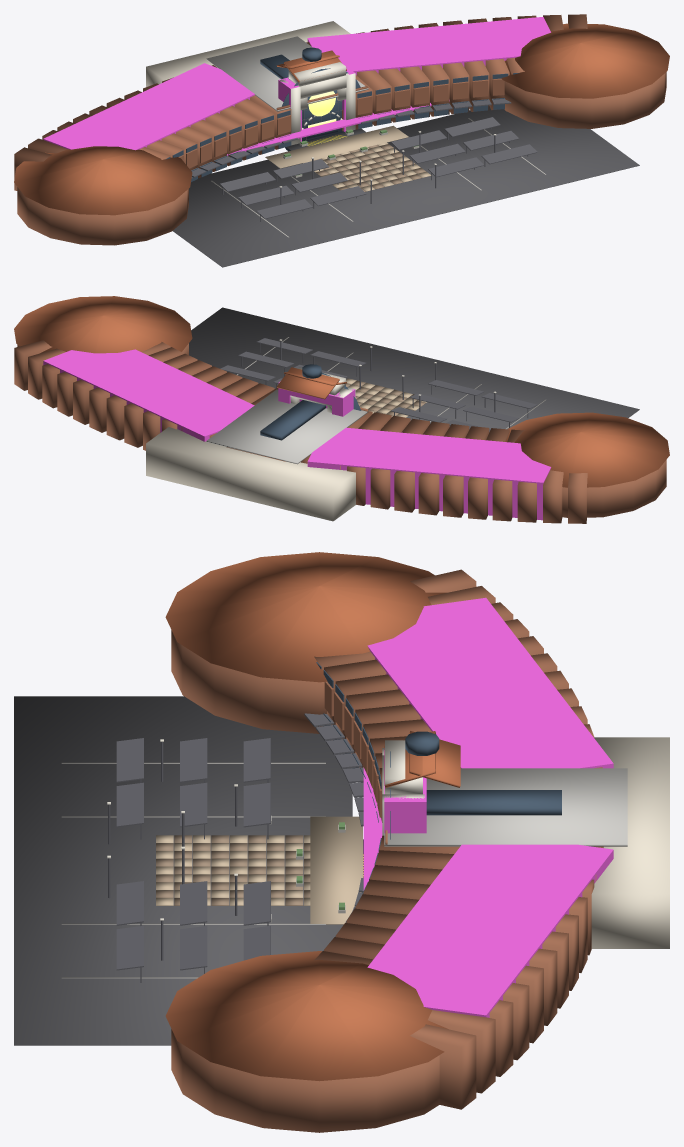
The model's file is shopping_del_sol_exterior_v01.glb.
3 views of the same model, one above another, from view 1: azimuth 30°, elevation 25°; view 2: azimuth 150°, elevation 25°; view 3: azimuth 270°, elevation 25° (orthographic). The views are drawn at different scales.
Parts seen in each view (by area): view 1: SDS_ParkingLot, SDS_RoofPavilion_L, SDS_RoofPavilion_R, COL_SDS_LeftWing, COL_SDS_RightWing, SDS_Pavilion_L, SDS_Pavilion_R, SDS_RoofMain, SDS_RearVolume, SDS_PlazaPad, COL_SDS_Canopy, SDS_EntranceFrameCap (+35 smaller); view 2: SDS_ParkingLot, SDS_RearVolume, COL_SDS_LeftWing, COL_SDS_RightWing, SDS_RoofPavilion_L, SDS_RoofPavilion_R, SDS_RoofMain, SDS_Pavilion_L, SDS_RoofSkylightSpine, SDS_Wing_L_06, SDS_Wing_L_07, SDS_Wing_L_04 (+24 smaller); view 3: SDS_ParkingLot, SDS_RoofPavilion_R, SDS_RoofPavilion_L, COL_SDS_RightWing, COL_SDS_LeftWing, SDS_Pavilion_R, SDS_RearVolume, SDS_RoofMain, SDS_Pavilion_L, SDS_PlazaPad, SDS_RoofSkylightSpine, SDS_Wing_R_12 (+33 smaller).
Boxes of the visible parts, x1,y1,x2,y2 form: SDS_ParkingLot: [173, 106, 639, 267]; SDS_RoofPavilion_L: [14, 146, 192, 215]; SDS_RoofPavilion_R: [501, 23, 669, 98]; COL_SDS_LeftWing: [43, 63, 254, 150]; COL_SDS_RightWing: [307, 17, 550, 75]; SDS_Pavilion_L: [17, 187, 188, 245]; SDS_Pavilion_R: [504, 72, 666, 128]; SDS_RoofMain: [206, 36, 368, 111]; SDS_RearVolume: [146, 21, 350, 87]; SDS_PlazaPad: [265, 125, 408, 168]; COL_SDS_Canopy: [227, 100, 449, 155]; SDS_EntranceFrameCap: [288, 62, 345, 86]; SDS_ParkingLot: [189, 307, 639, 429]; SDS_RearVolume: [146, 427, 355, 521]; COL_SDS_LeftWing: [307, 427, 551, 520]; COL_SDS_RightWing: [43, 349, 254, 441]; SDS_RoofPavilion_L: [505, 412, 669, 487]; SDS_RoofPavilion_R: [14, 296, 192, 353]; SDS_RoofMain: [206, 389, 368, 464]; SDS_Pavilion_L: [562, 460, 666, 517]; SDS_RoofSkylightSpine: [260, 400, 325, 440]; SDS_Wing_L_06: [418, 424, 469, 515]; SDS_Wing_L_07: [443, 426, 489, 517]; SDS_Wing_L_04: [370, 418, 429, 509]; SDS_ParkingLot: [14, 696, 352, 1045]; SDS_RoofPavilion_R: [165, 951, 448, 1081]; SDS_RoofPavilion_L: [165, 552, 446, 682]; COL_SDS_RightWing: [367, 844, 613, 1017]; COL_SDS_LeftWing: [367, 597, 613, 768]; SDS_Pavilion_R: [171, 1029, 439, 1132]; SDS_RearVolume: [591, 737, 669, 948]; SDS_RoofMain: [384, 768, 627, 846]; SDS_Pavilion_L: [171, 630, 326, 733]; SDS_PlazaPad: [310, 816, 362, 924]; SDS_RoofSkylightSpine: [426, 790, 561, 815]; SDS_Wing_R_12: [410, 1024, 476, 1109].
Size of the model in its own units: 237 by 36.19 by 124.
